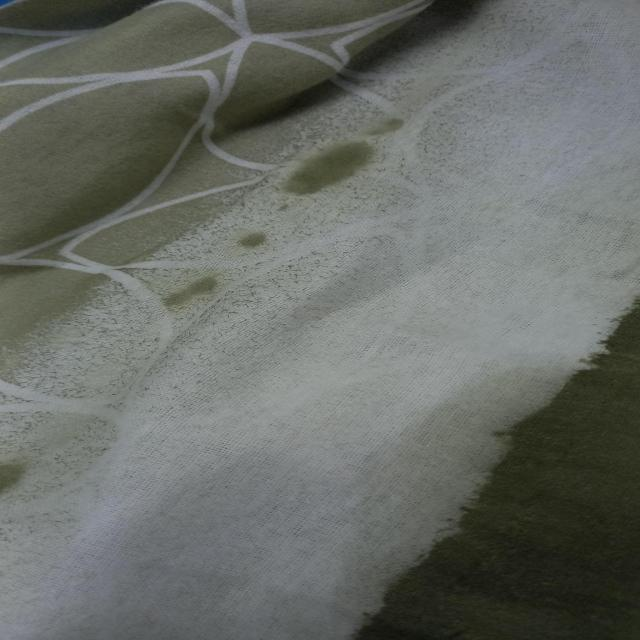baekra: (1, 226, 636, 636), (304, 3, 638, 340)
